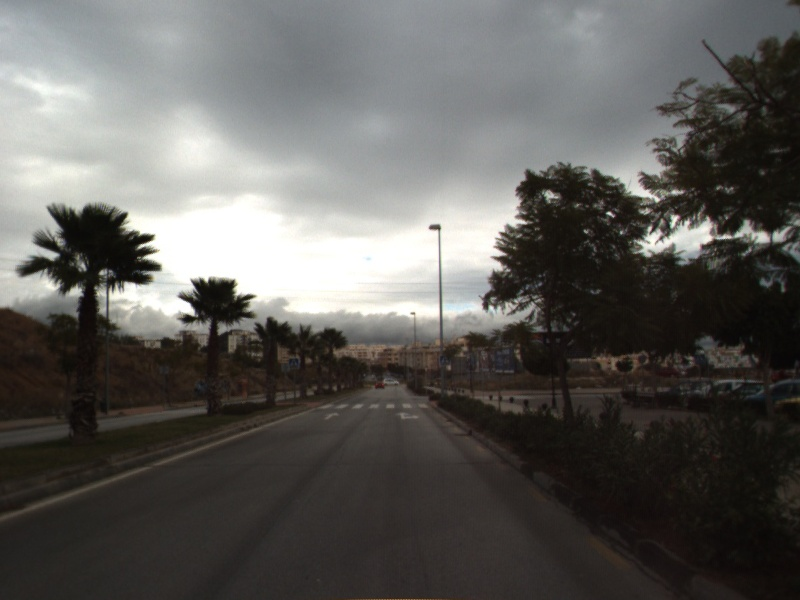STRAIGHT: (322, 410, 342, 421)
STRAIGHT_RIGHT: (393, 410, 422, 421)
